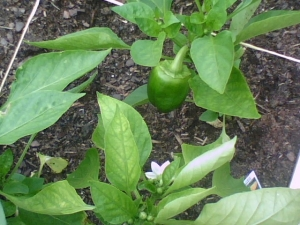capsicum: (147, 41, 191, 111)
